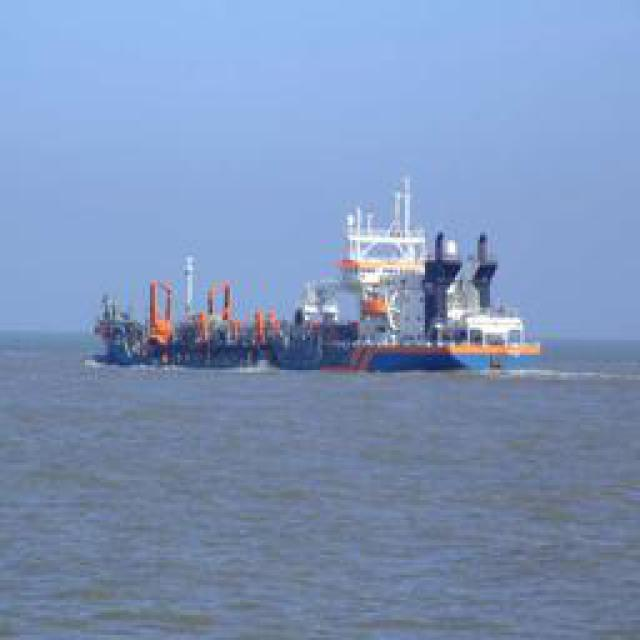Ship: (91, 180, 547, 381)
